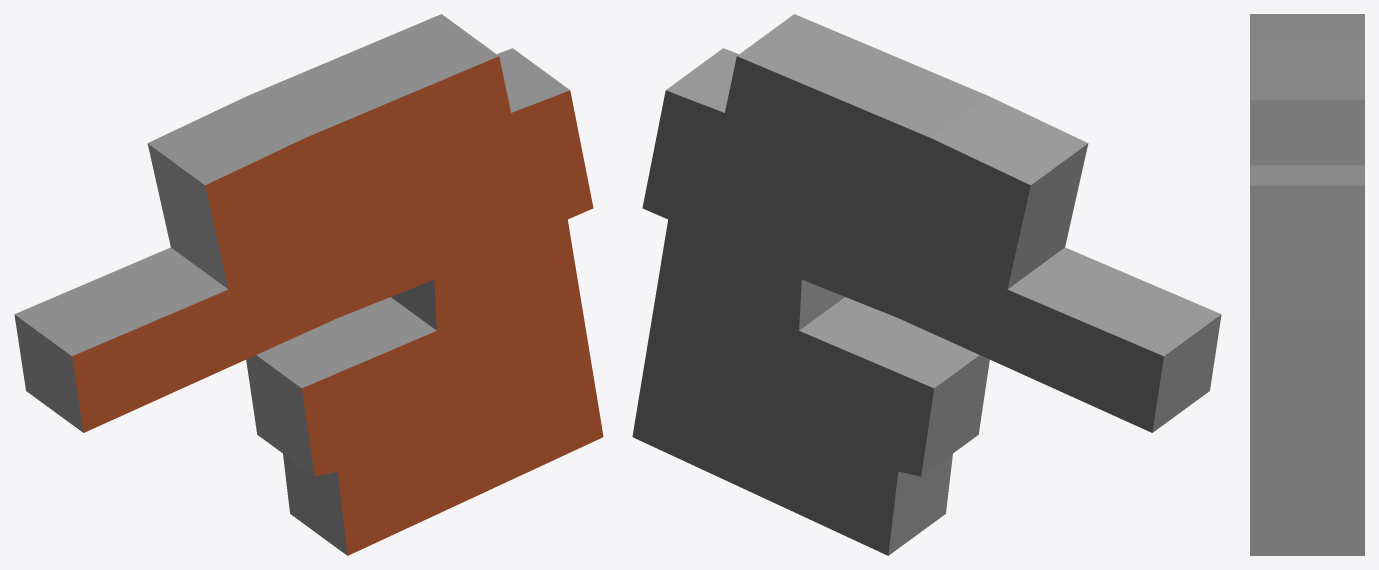
The model's file is construction_3915_assumed_A_Casa_h6m.obj.
The picture shows the model from 3 angles, left to right: view 1: azimuth 30°, elevation 25°; view 2: azimuth 150°, elevation 25°; view 3: azimuth 270°, elevation 25°; orthographic projection.
Visible parts, largest first — view 1: construction_3915_assumed_A_Casa; view 2: construction_3915_assumed_A_Casa; view 3: construction_3915_assumed_A_Casa.
Part boxes in pixels (x1,y1,x2,y2): construction_3915_assumed_A_Casa: [14, 14, 603, 555]; construction_3915_assumed_A_Casa: [632, 14, 1221, 555]; construction_3915_assumed_A_Casa: [1250, 14, 1364, 555].
Size of the model in its own units: 31.98 by 26.61 by 6.
